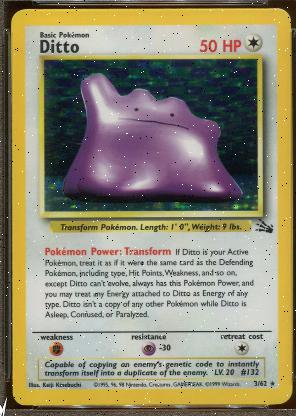Card: (7, 6, 293, 406)
